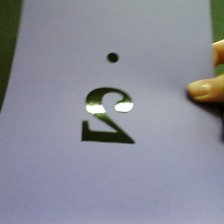violet2: (72, 48, 147, 148)
